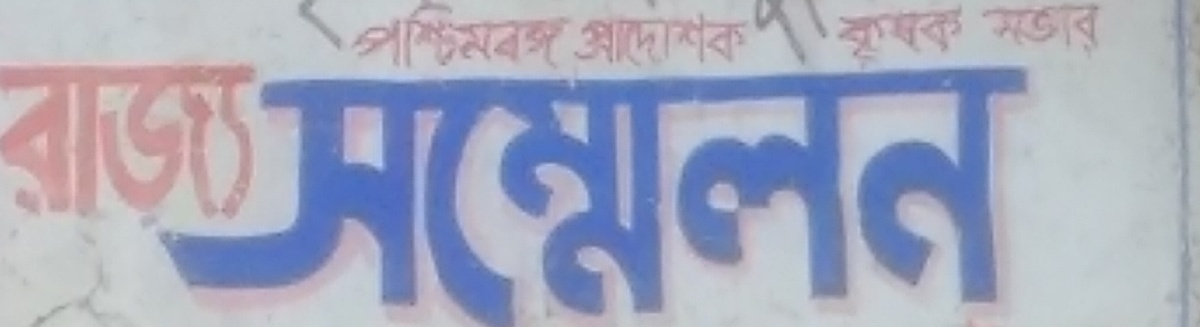text: (257, 60, 272, 327), (273, 60, 288, 327), (289, 60, 304, 327), (305, 60, 320, 327), (321, 60, 336, 327), (337, 60, 352, 327), (353, 60, 368, 327), (369, 60, 384, 327), (385, 60, 400, 327), (401, 60, 416, 327), (417, 60, 432, 327), (433, 60, 448, 327), (449, 60, 464, 327), (465, 60, 480, 327), (481, 60, 496, 327), (497, 60, 512, 327), (513, 60, 528, 327), (529, 60, 544, 327), (545, 60, 560, 327), (561, 60, 576, 327), (577, 60, 592, 327), (593, 60, 608, 327), (609, 60, 624, 327), (625, 60, 640, 327), (641, 60, 656, 327), (657, 60, 672, 327), (673, 60, 688, 327), (689, 60, 704, 327), (705, 60, 720, 327), (721, 60, 736, 327), (737, 60, 752, 327), (753, 60, 768, 327), (769, 60, 784, 327), (785, 60, 800, 327), (801, 60, 816, 327), (817, 60, 832, 327), (833, 60, 848, 327), (849, 60, 864, 327), (865, 60, 880, 327), (881, 60, 896, 327), (897, 60, 912, 327), (913, 60, 928, 327), (929, 60, 944, 327), (945, 60, 960, 327), (961, 60, 976, 327), (977, 60, 992, 327), (993, 60, 1008, 327), (1009, 60, 1024, 327), (1025, 60, 1039, 327), (1, 60, 16, 222), (17, 60, 32, 222), (33, 60, 48, 222), (49, 60, 64, 222), (65, 60, 80, 222), (81, 60, 96, 222), (97, 60, 112, 222), (113, 60, 128, 222), (129, 60, 144, 222), (145, 60, 160, 222), (161, 60, 176, 222), (177, 60, 192, 222), (193, 60, 208, 222), (209, 60, 224, 222), (225, 60, 240, 222), (241, 60, 256, 222), (369, 1, 384, 72), (385, 1, 400, 72), (401, 1, 416, 72), (417, 1, 432, 72), (433, 1, 448, 72), (449, 1, 464, 72), (465, 1, 480, 72), (481, 1, 496, 72), (497, 1, 512, 72), (513, 1, 528, 72), (529, 1, 544, 72), (545, 1, 560, 72), (561, 1, 576, 72), (753, 1, 768, 69), (769, 1, 784, 69), (785, 1, 800, 69), (801, 1, 816, 69), (355, 1, 368, 72), (577, 12, 592, 70), (593, 12, 608, 70), (609, 12, 624, 70), (625, 12, 640, 70), (641, 12, 656, 70), (657, 12, 672, 70), (673, 12, 688, 70), (689, 12, 704, 70), (705, 12, 720, 70), (721, 12, 736, 70), (849, 5, 864, 62), (865, 5, 880, 62), (881, 5, 896, 62), (897, 5, 912, 62), (913, 5, 928, 62), (929, 5, 944, 62), (945, 5, 960, 62), (993, 3, 1008, 60), (1009, 3, 1024, 60), (1025, 3, 1040, 60), (1041, 3, 1056, 60), (1057, 3, 1072, 60), (1073, 3, 1088, 60), (817, 1, 829, 69), (1089, 3, 1103, 60), (305, 1, 320, 53), (321, 1, 336, 53), (737, 12, 748, 70), (981, 3, 992, 60), (838, 5, 848, 62), (257, 60, 260, 222), (296, 1, 304, 53), (961, 5, 968, 62), (337, 1, 344, 53)
